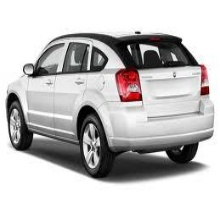no damage: (5, 31, 214, 177)
